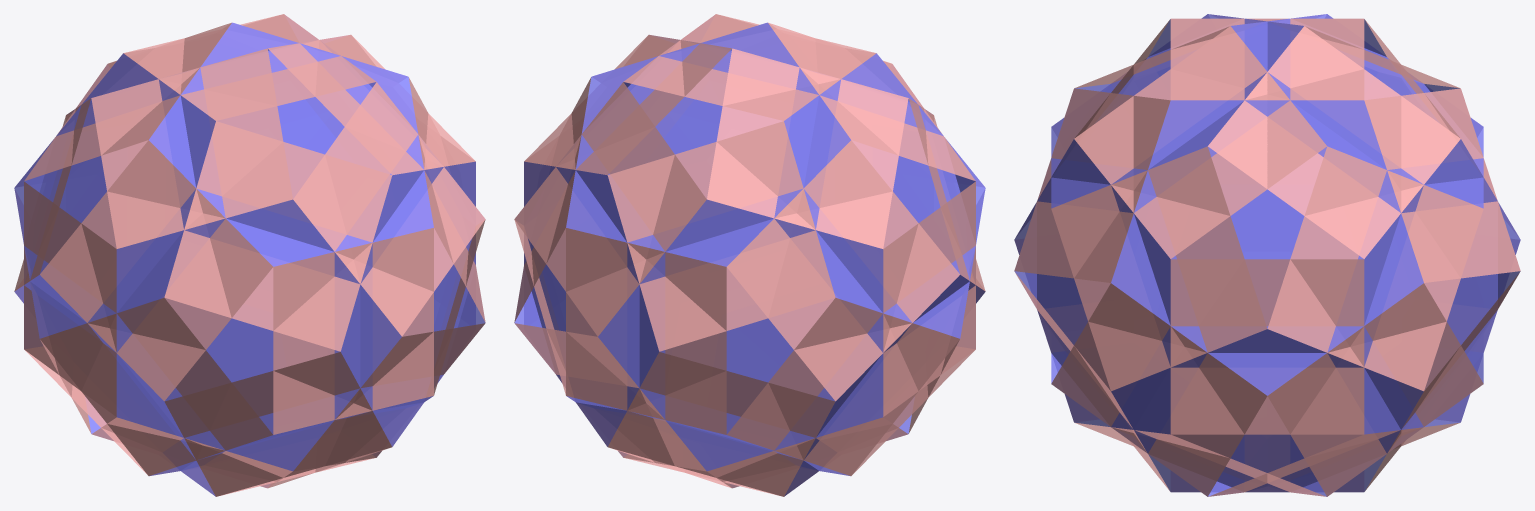
The model's file is RhombidodecadodecahedronA.obj.
The picture shows the model from 3 angles, left to right: view 1: azimuth 30°, elevation 25°; view 2: azimuth 150°, elevation 25°; view 3: azimuth 270°, elevation 25°; orthographic projection. The views are drawn at different scales.
Bounding box in the file's own units: 2.62 × 2.62 × 2.62.
